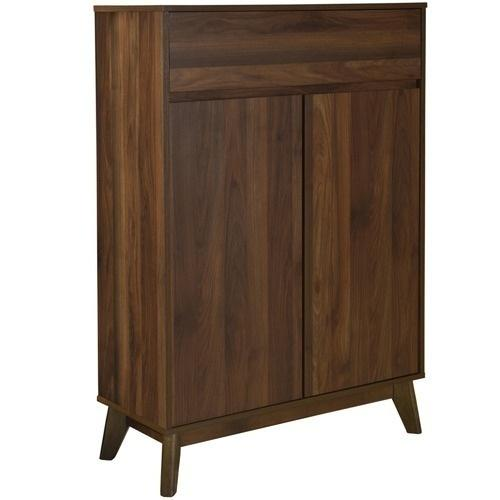cabinet_door: (167, 100, 303, 391), (306, 96, 419, 379), (168, 10, 417, 86)
